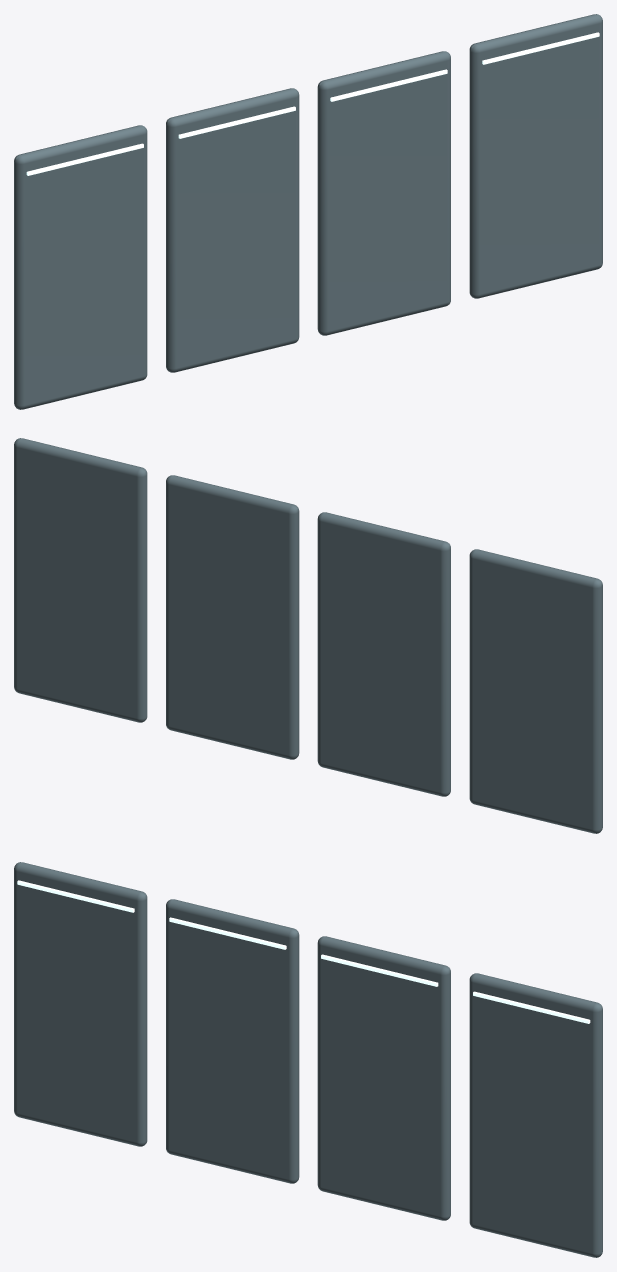
File: west.glb
The picture shows the model from 3 angles, top to bottom: view 1: azimuth 30°, elevation 25°; view 2: azimuth 150°, elevation 25°; view 3: azimuth 330°, elevation 25°; orthographic projection.
Visible parts, largest first — view 1: starship-lounge west; view 2: starship-lounge west; view 3: starship-lounge west.
Boxes of the visible parts, bbox=[...] form: starship-lounge west: bbox=[14, 14, 602, 409]; starship-lounge west: bbox=[14, 438, 602, 833]; starship-lounge west: bbox=[14, 862, 602, 1257].
Bounding box in the file's own units: 5.8 × 2.4 × 0.1525.
